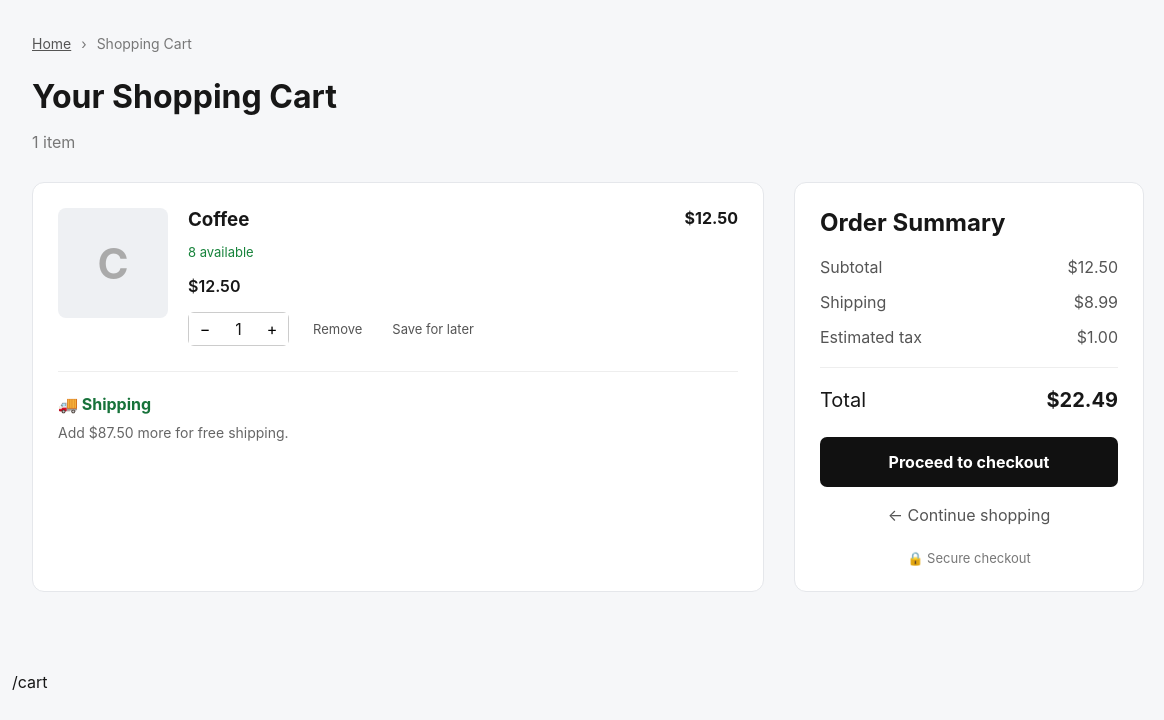
Test: Cart › navigates to checkout when the checkout button is clicked
Expected: the heading "Your Shopping Cart" is shown, [32,77,337,116]
Click the button "Proceed to checkout".
click(969, 462)  # box [820,437,1118,487]
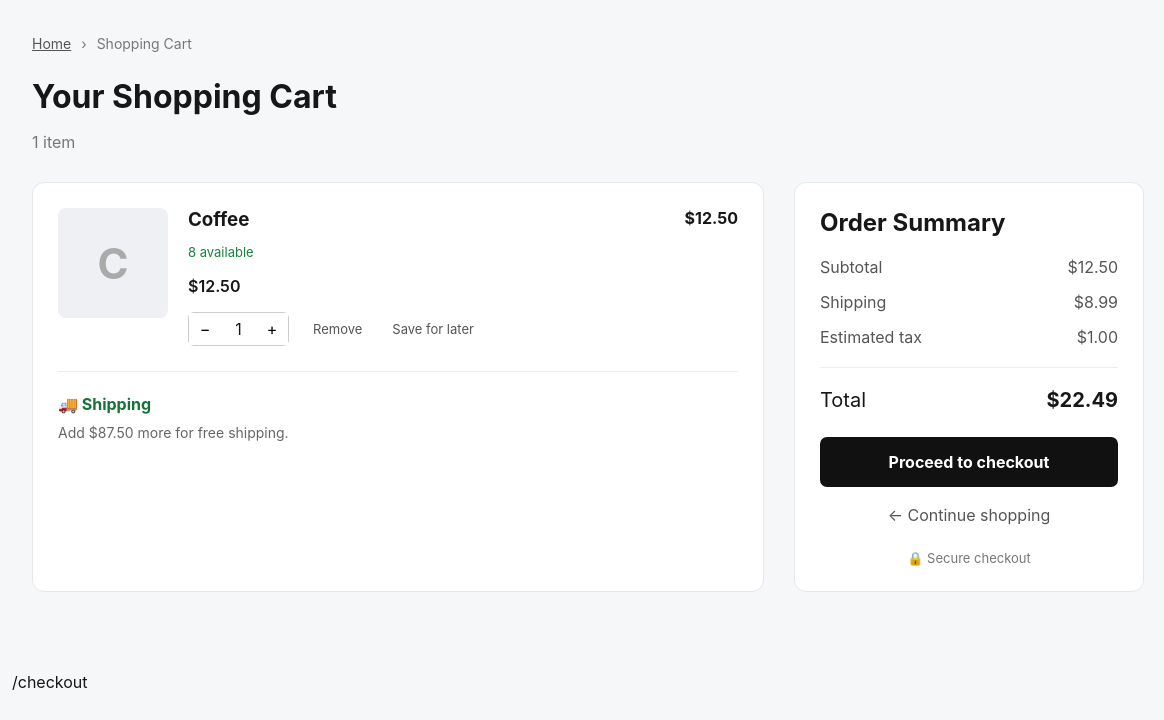
Expected: the text named "Current path" reads "/checkout", [12,672,88,692]
